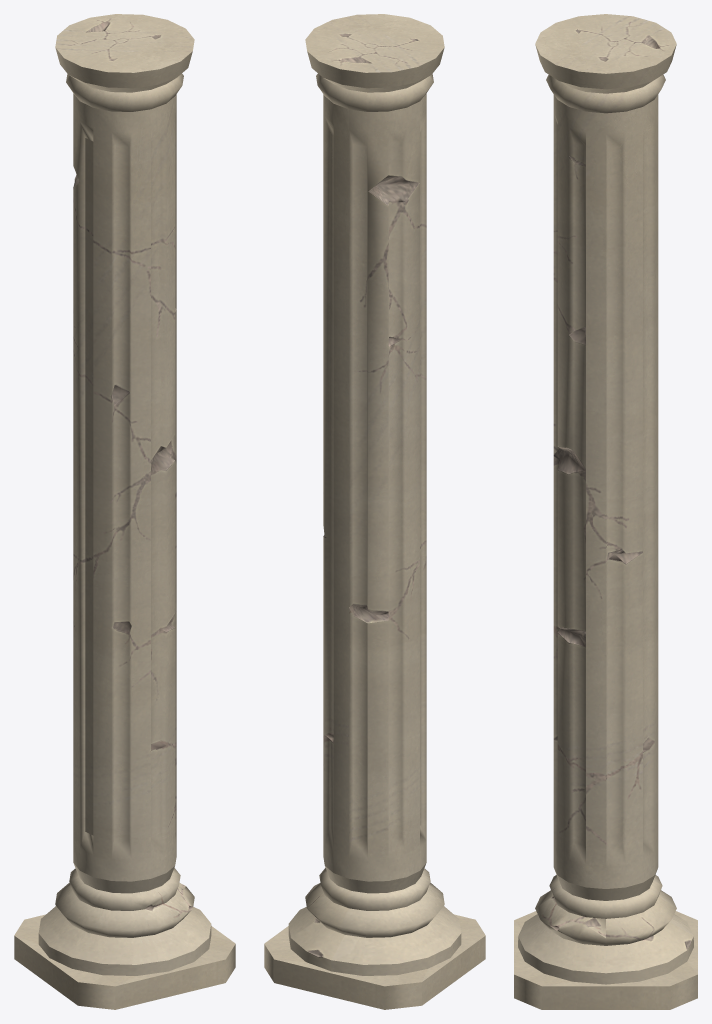
The model's file is pillar_2.fbx.
3 renders of one model, left to right at view 1: azimuth 30°, elevation 25°; view 2: azimuth 150°, elevation 25°; view 3: azimuth 270°, elevation 25°, orthographic.
Visible parts, largest first — view 1: pillar_2; view 2: pillar_2; view 3: pillar_2.
Part boxes in pixels (x1,y1,x2,y2): pillar_2: (14,14,235,1009); pillar_2: (264,14,485,1009); pillar_2: (514,14,697,1009).
Size of the model in its own units: 8.61 by 47.93 by 8.61.
